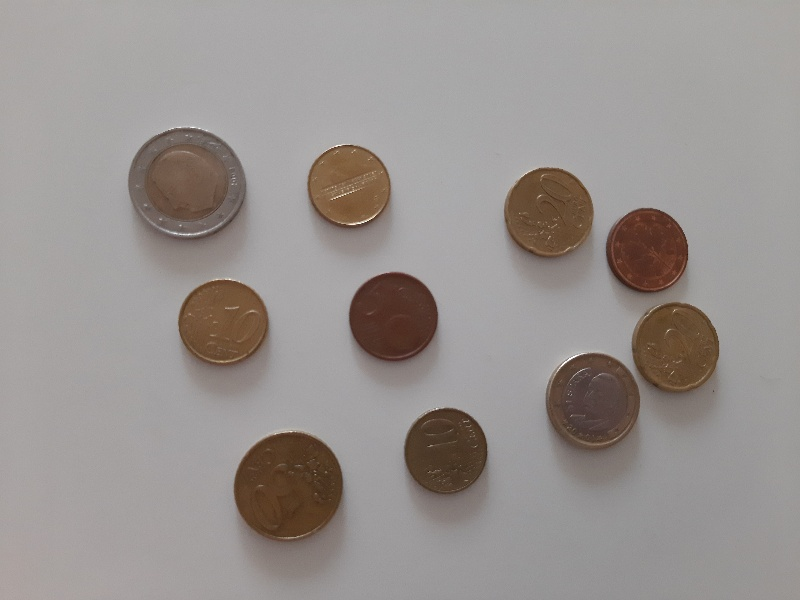1 euro: (543, 350, 647, 454)
10 cent: (176, 277, 273, 367), (402, 405, 492, 496), (304, 143, 395, 228)
2 euro: (123, 124, 253, 240)
20 cent: (503, 165, 598, 260), (631, 302, 722, 395)
5 cent: (347, 270, 444, 365), (606, 206, 692, 293)
50 cent: (231, 428, 353, 544)
